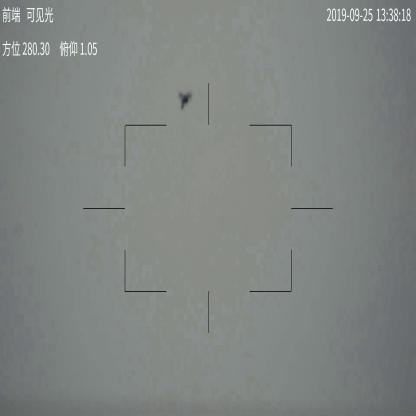uav: (177, 88, 195, 112)
